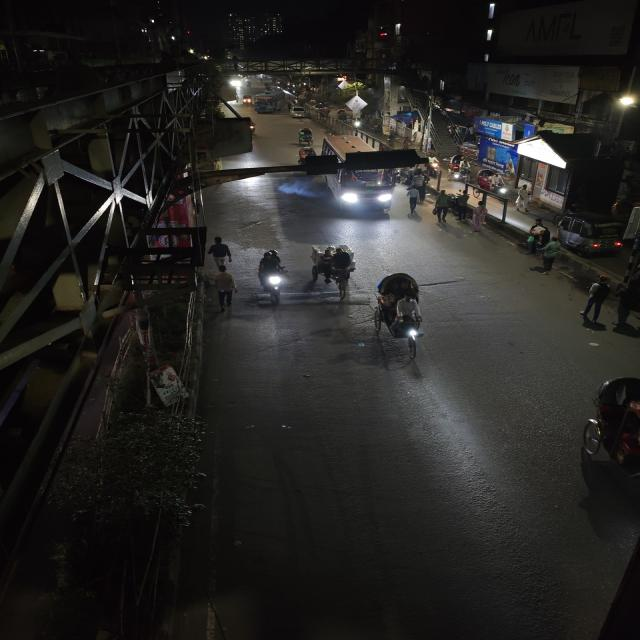bus: (332, 151, 397, 215), (254, 93, 282, 117)
car: (288, 106, 310, 120)
cng: (554, 208, 624, 256), (241, 95, 253, 106)
motorcycle: (253, 245, 289, 310)
pedestrian: (606, 268, 638, 339), (209, 264, 242, 318), (581, 271, 608, 329), (536, 240, 566, 277), (205, 236, 237, 270), (433, 188, 452, 223), (455, 189, 473, 225), (514, 183, 534, 215), (526, 218, 544, 253), (408, 186, 426, 220), (472, 201, 490, 233), (411, 169, 427, 187)
rickshaw: (366, 266, 438, 362), (304, 242, 361, 302), (478, 166, 511, 204), (447, 155, 478, 184), (296, 144, 318, 164), (290, 129, 318, 144)
